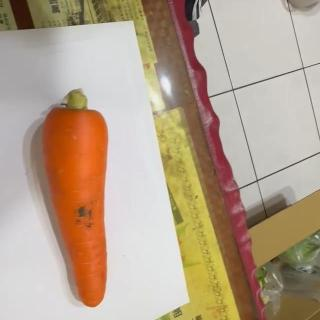carrot: (40, 88, 111, 307)
